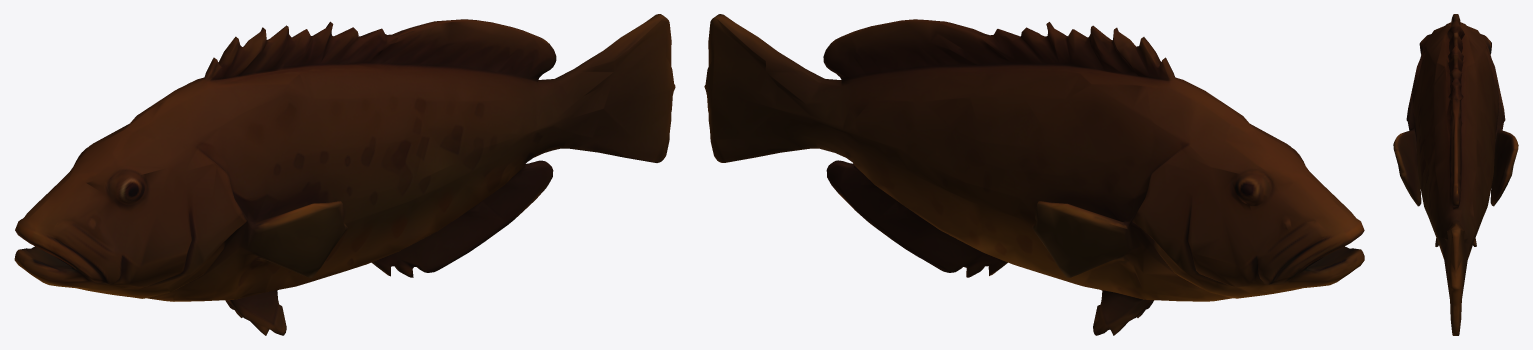
File: grouper.glb
3 views of the same model, side by side, from view 1: azimuth 30°, elevation 25°; view 2: azimuth 150°, elevation 25°; view 3: azimuth 270°, elevation 25° (orthographic). The views are drawn at different scales.
Visible parts, largest first — view 1: material; view 2: material; view 3: material.
Part boxes in pixels (x1,y1,x2,y2): material: [14, 14, 675, 335]; material: [704, 14, 1364, 335]; material: [1393, 14, 1518, 335].
Size of the model in its own units: 1.2 by 0.5215 by 0.2651.
1 material, 1 textured.
